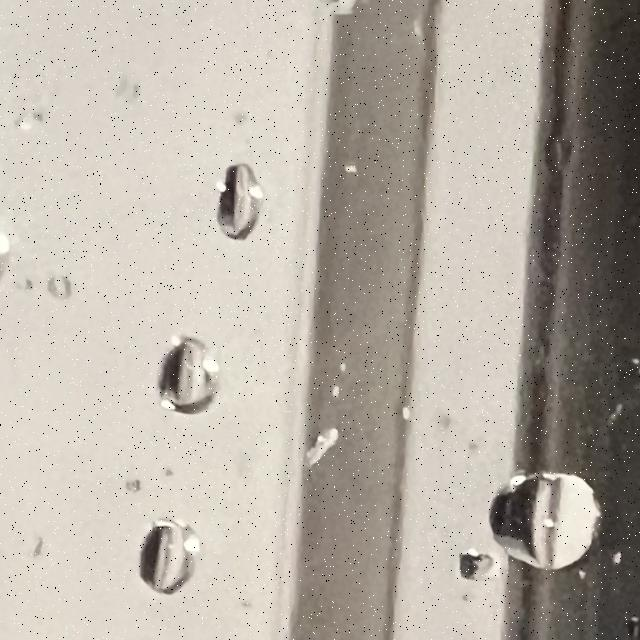raindrop: (500, 468, 597, 586), (114, 480, 202, 596), (196, 159, 281, 250), (140, 329, 226, 418), (450, 536, 500, 595)
